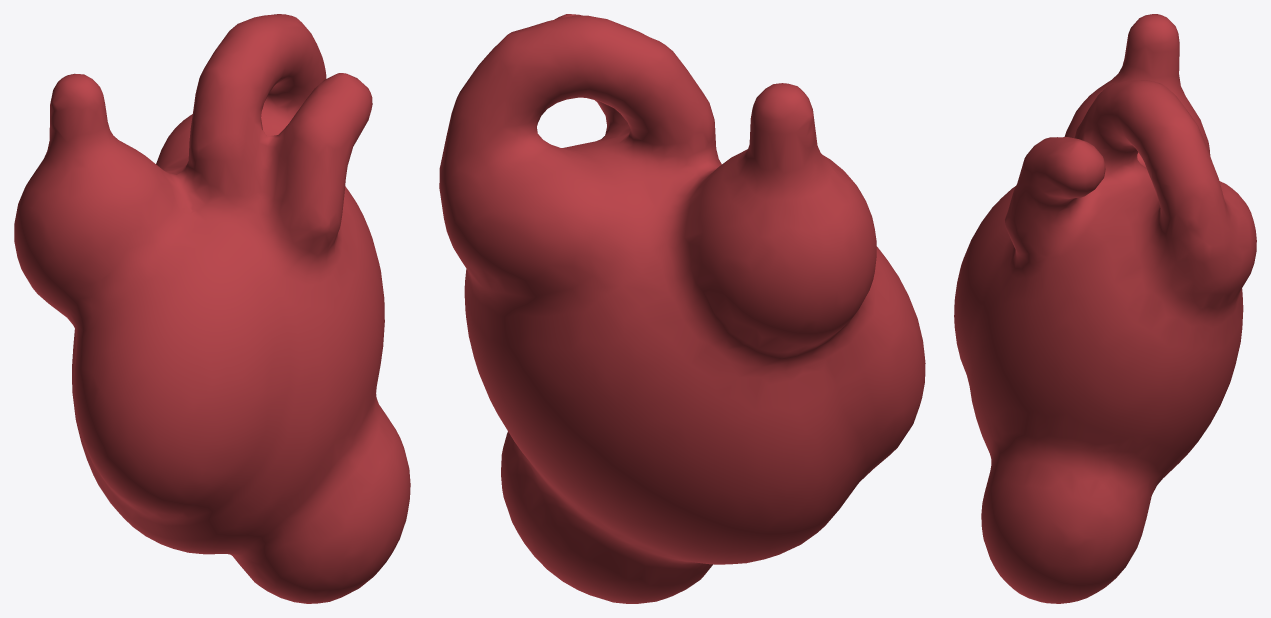
The model's file is heart.glb.
3 views of the same model, side by side, from view 1: azimuth 30°, elevation 25°; view 2: azimuth 150°, elevation 25°; view 3: azimuth 270°, elevation 25° (orthographic). The views are drawn at different scales.
Visible parts, largest first — view 1: Heart; view 2: Heart; view 3: Heart.
Boxes of the visible parts, <box> form: Heart: <box>14,14,410,603</box>; Heart: <box>439,14,925,603</box>; Heart: <box>954,14,1256,603</box>.
Size of the model in its own units: 0.1245 by 0.1879 by 0.102.
